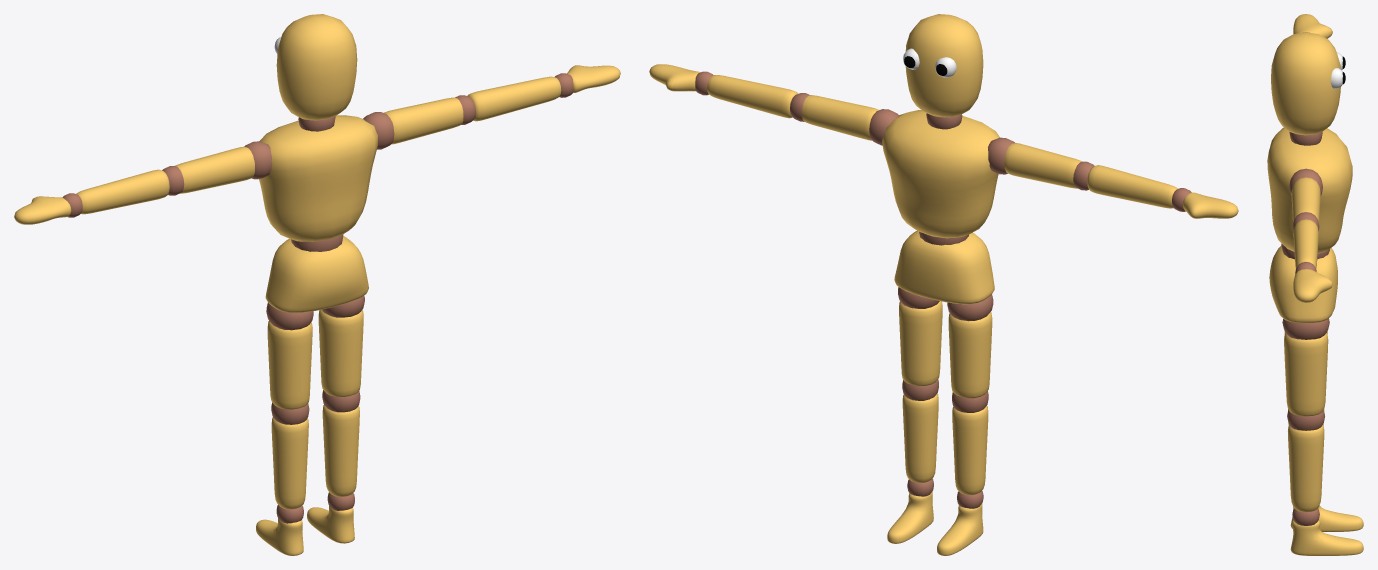
File: Character-02-fix.fbx
3 views of the same model, side by side, from view 1: azimuth 30°, elevation 25°; view 2: azimuth 150°, elevation 25°; view 3: azimuth 270°, elevation 25° (orthographic). The views are drawn at different scales.
Parts seen in each view (by area): view 1: Torso, Head, Hips, left-leg-1, right-leg-1, left-leg-2, right-leg-2, left-hand-1, right-hand-1, left-hand-2, right-hand-2, right-leg-3 (+3 smaller); view 2: Torso, Head, Hips, left-leg-1, right-leg-1, left-leg-2, right-leg-2, left-hand-1, right-hand-1, left-hand-2, right-hand-2, left-leg-3 (+3 smaller); view 3: Torso, Head, right-leg-1, right-leg-2, Hips, right-leg-3, right-hand-1, right-hand-2, right-hand-3, left-leg-3, left-hand-3, Eye-right.
Part boxes in pixels (box(x1,y1,x2,y2)): Torso: box(259, 115, 377, 251); Head: box(276, 14, 357, 131); Hips: box(265, 236, 368, 312); left-leg-1: box(266, 302, 313, 409); right-leg-1: box(318, 295, 364, 396); left-leg-2: box(271, 402, 309, 509); right-leg-2: box(322, 390, 360, 496); left-hand-1: box(175, 141, 272, 193); right-hand-1: box(363, 97, 463, 149); left-hand-2: box(76, 166, 184, 214); right-hand-2: box(455, 76, 561, 124); right-leg-3: box(307, 492, 354, 543); Torso: box(882, 110, 999, 245); Head: box(905, 14, 983, 129); Hips: box(894, 230, 994, 304); left-leg-1: box(947, 294, 993, 398); right-leg-1: box(898, 287, 942, 385); left-leg-2: box(952, 391, 988, 495); right-leg-2: box(902, 379, 938, 482); left-hand-1: box(988, 137, 1081, 188); right-hand-1: box(802, 95, 898, 145); left-hand-2: box(1073, 161, 1178, 208); right-hand-2: box(707, 75, 809, 121); left-leg-3: box(937, 491, 983, 555); Torso: box(1267, 127, 1352, 259); Head: box(1271, 32, 1340, 145); right-leg-1: box(1282, 318, 1329, 416); right-leg-2: box(1287, 409, 1324, 512); Hips: box(1269, 245, 1337, 322); right-leg-3: box(1290, 508, 1363, 555); right-hand-1: box(1289, 168, 1322, 222); right-hand-2: box(1292, 212, 1319, 268); right-hand-3: box(1293, 262, 1332, 302); left-leg-3: box(1290, 505, 1363, 531); left-hand-3: box(1293, 14, 1332, 38); Eye-right: box(1330, 68, 1345, 88).
Bounding box in the file's own units: 16.93 × 14.11 × 2.44.
